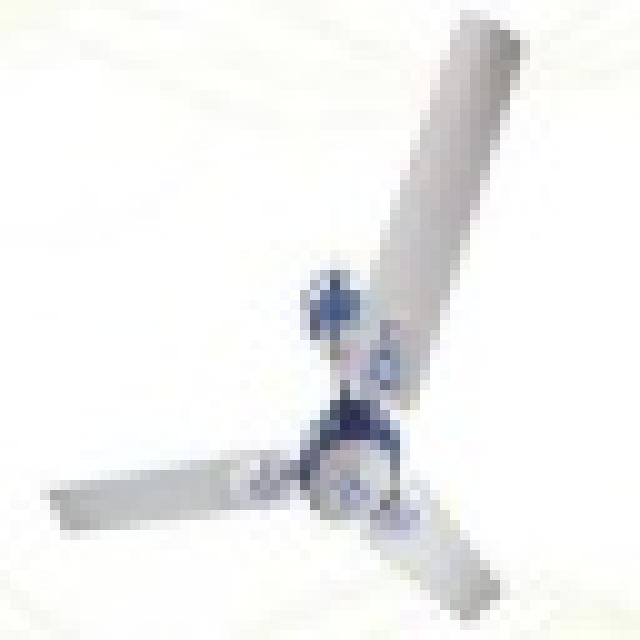Bulb: (17, 59, 575, 634)
